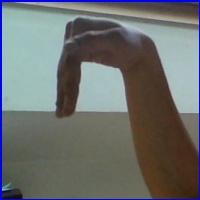del: (54, 18, 170, 129)
